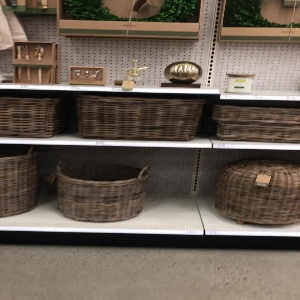void: (144, 148, 222, 229), (255, 41, 300, 95)
